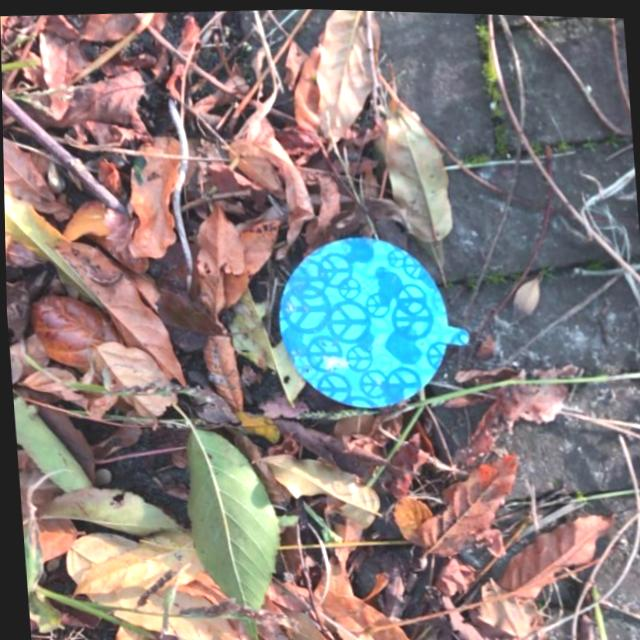Paper: (268, 228, 475, 416)
